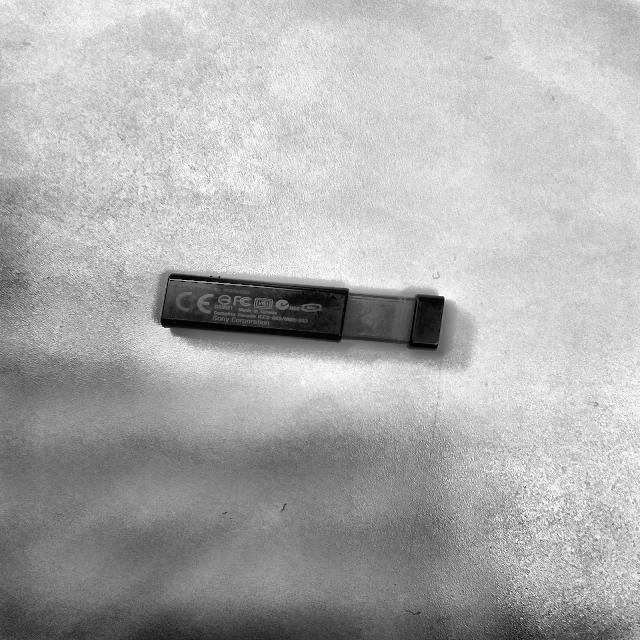Mug: (142, 253, 468, 368)
